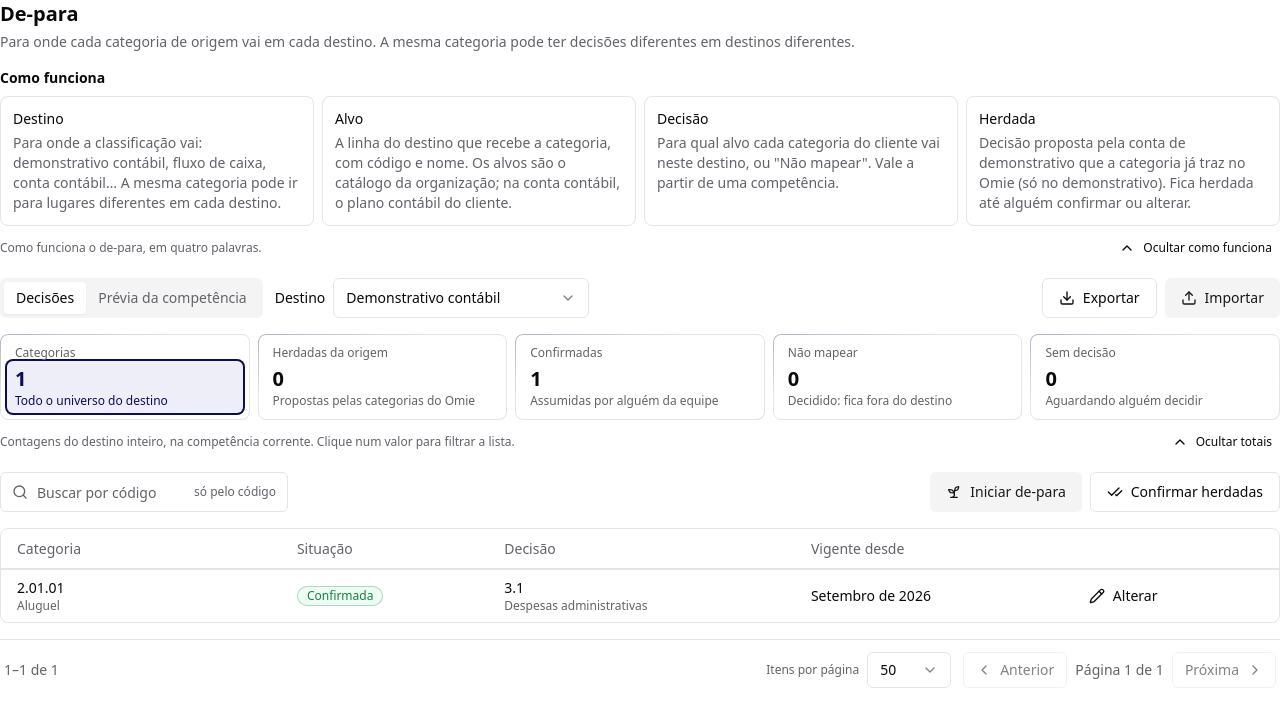
Test: troca de seletor por destino › REGRESSÃO — demonstrativo: a gaveta e a lista da S12, sem histórico nem plano
Click the button with aria-label "Alterar a categoria 2.01.01": (1123, 596) top-left (1077, 578), bottom-right (1170, 614)
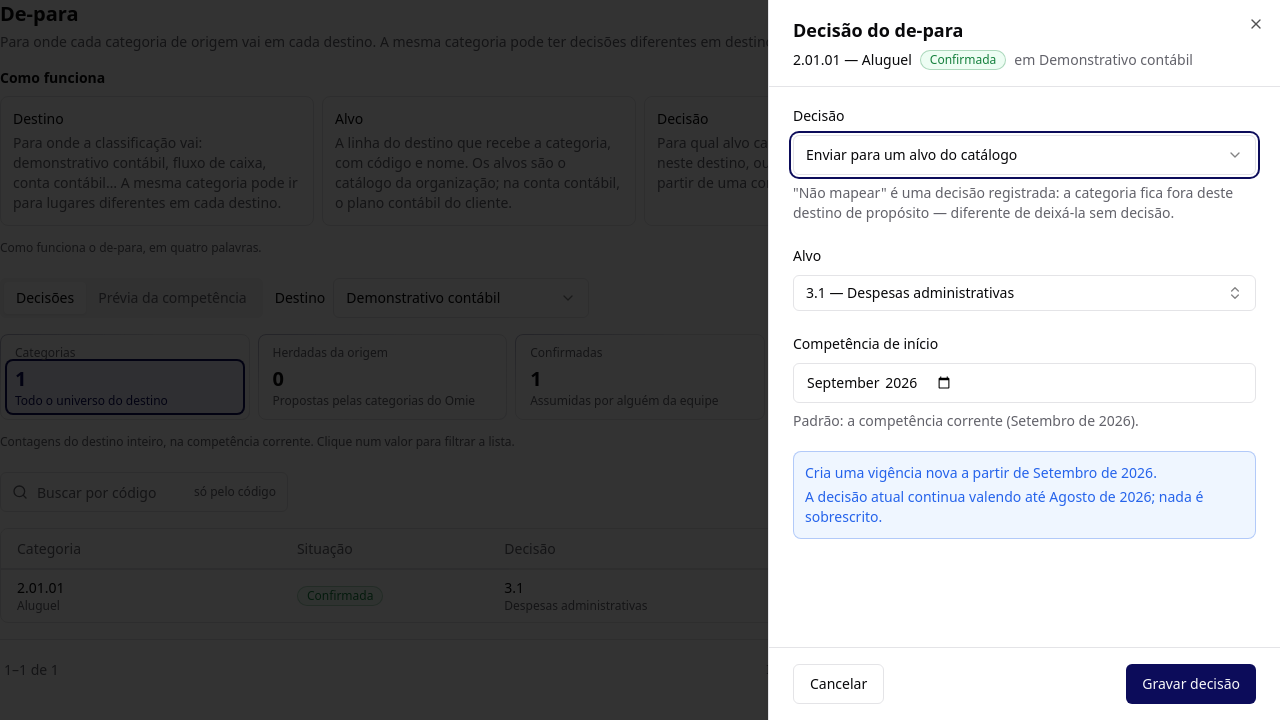
Now the button with aria-label "Alvo do catálogo" is shown, box top-left (793, 275), bottom-right (1256, 311)
